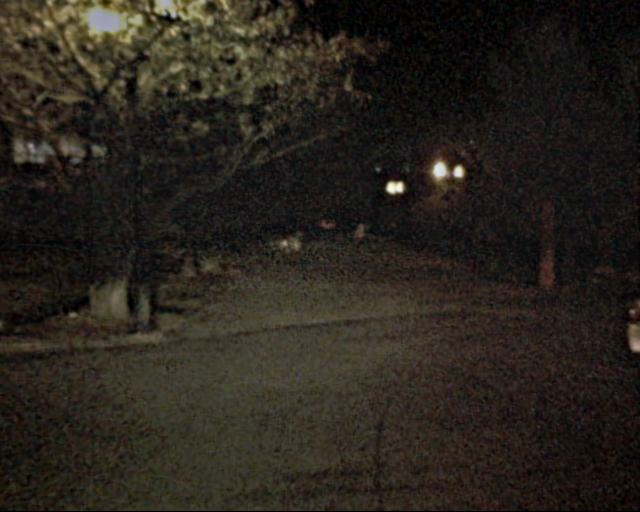person: (348, 219, 366, 264)
